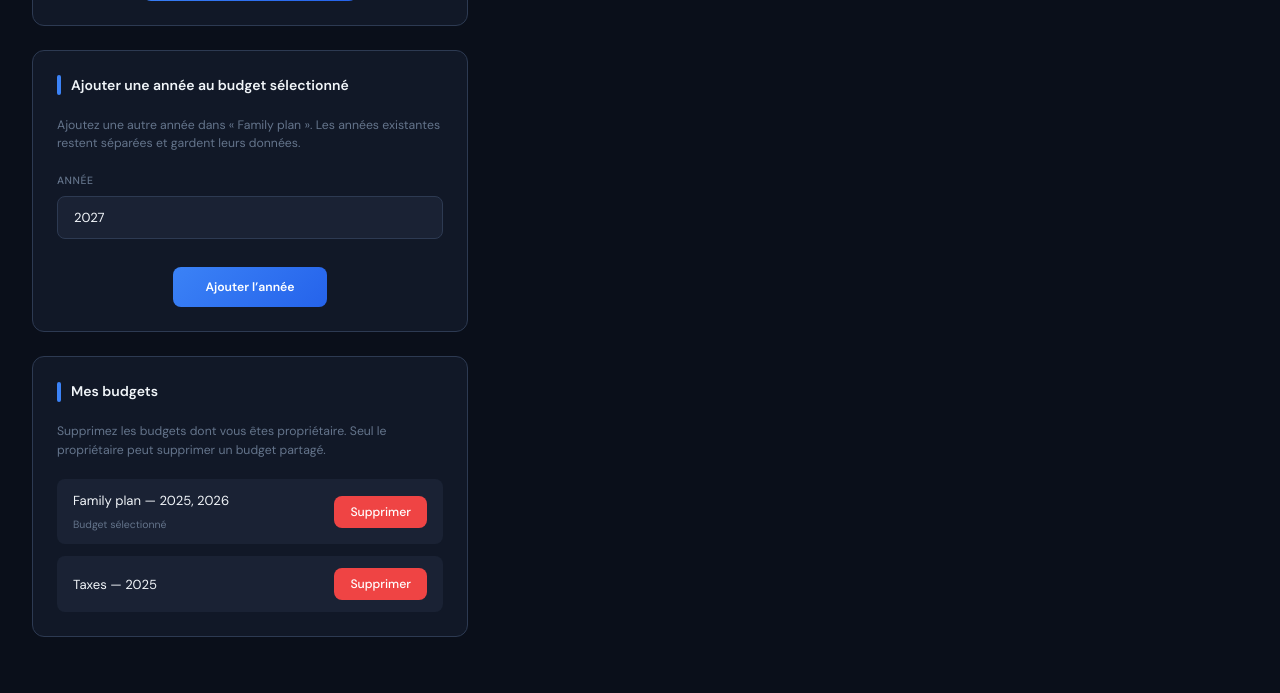
Test: budget deletion settings › uses French deletion copy when the account language is French
This screenshot has width=1280, height=693.
(page scrolled)
Step 1. Click the button "Supprimer" in the row of "Taxes — 2025" → x=381, y=584, box [334,568,427,600]
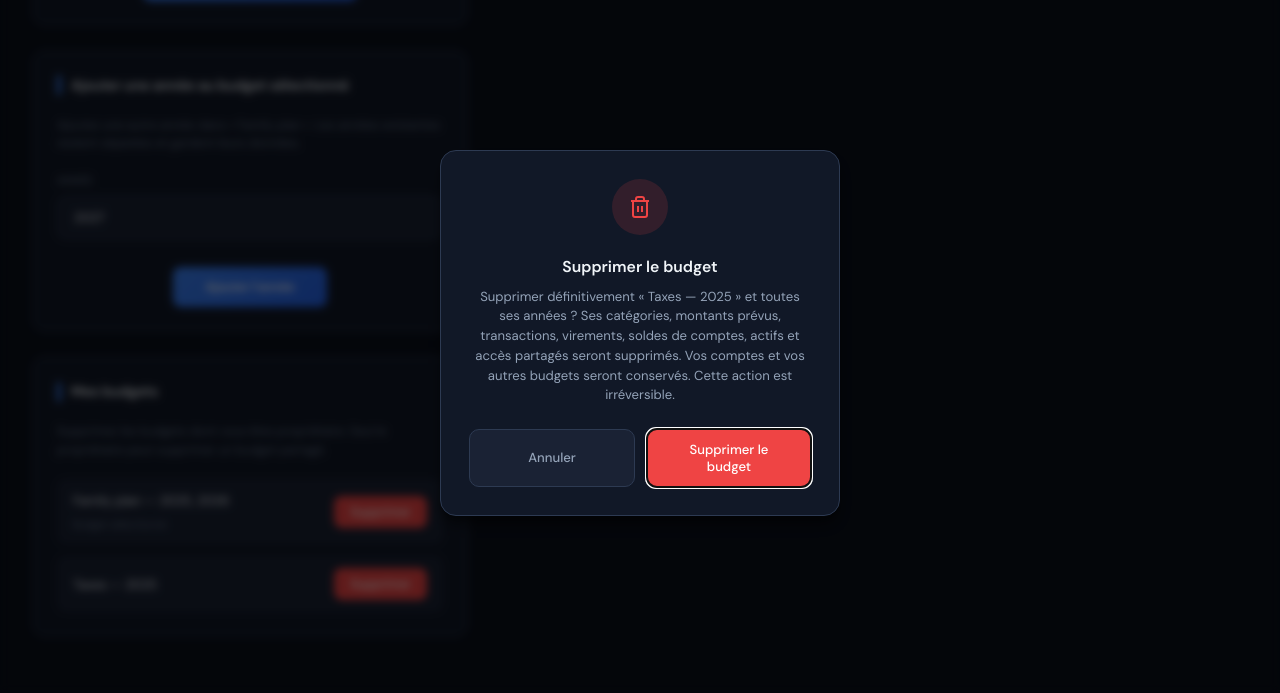
expect the dialog shows "Supprimer définitivement": met, box [475,288,805,403]
